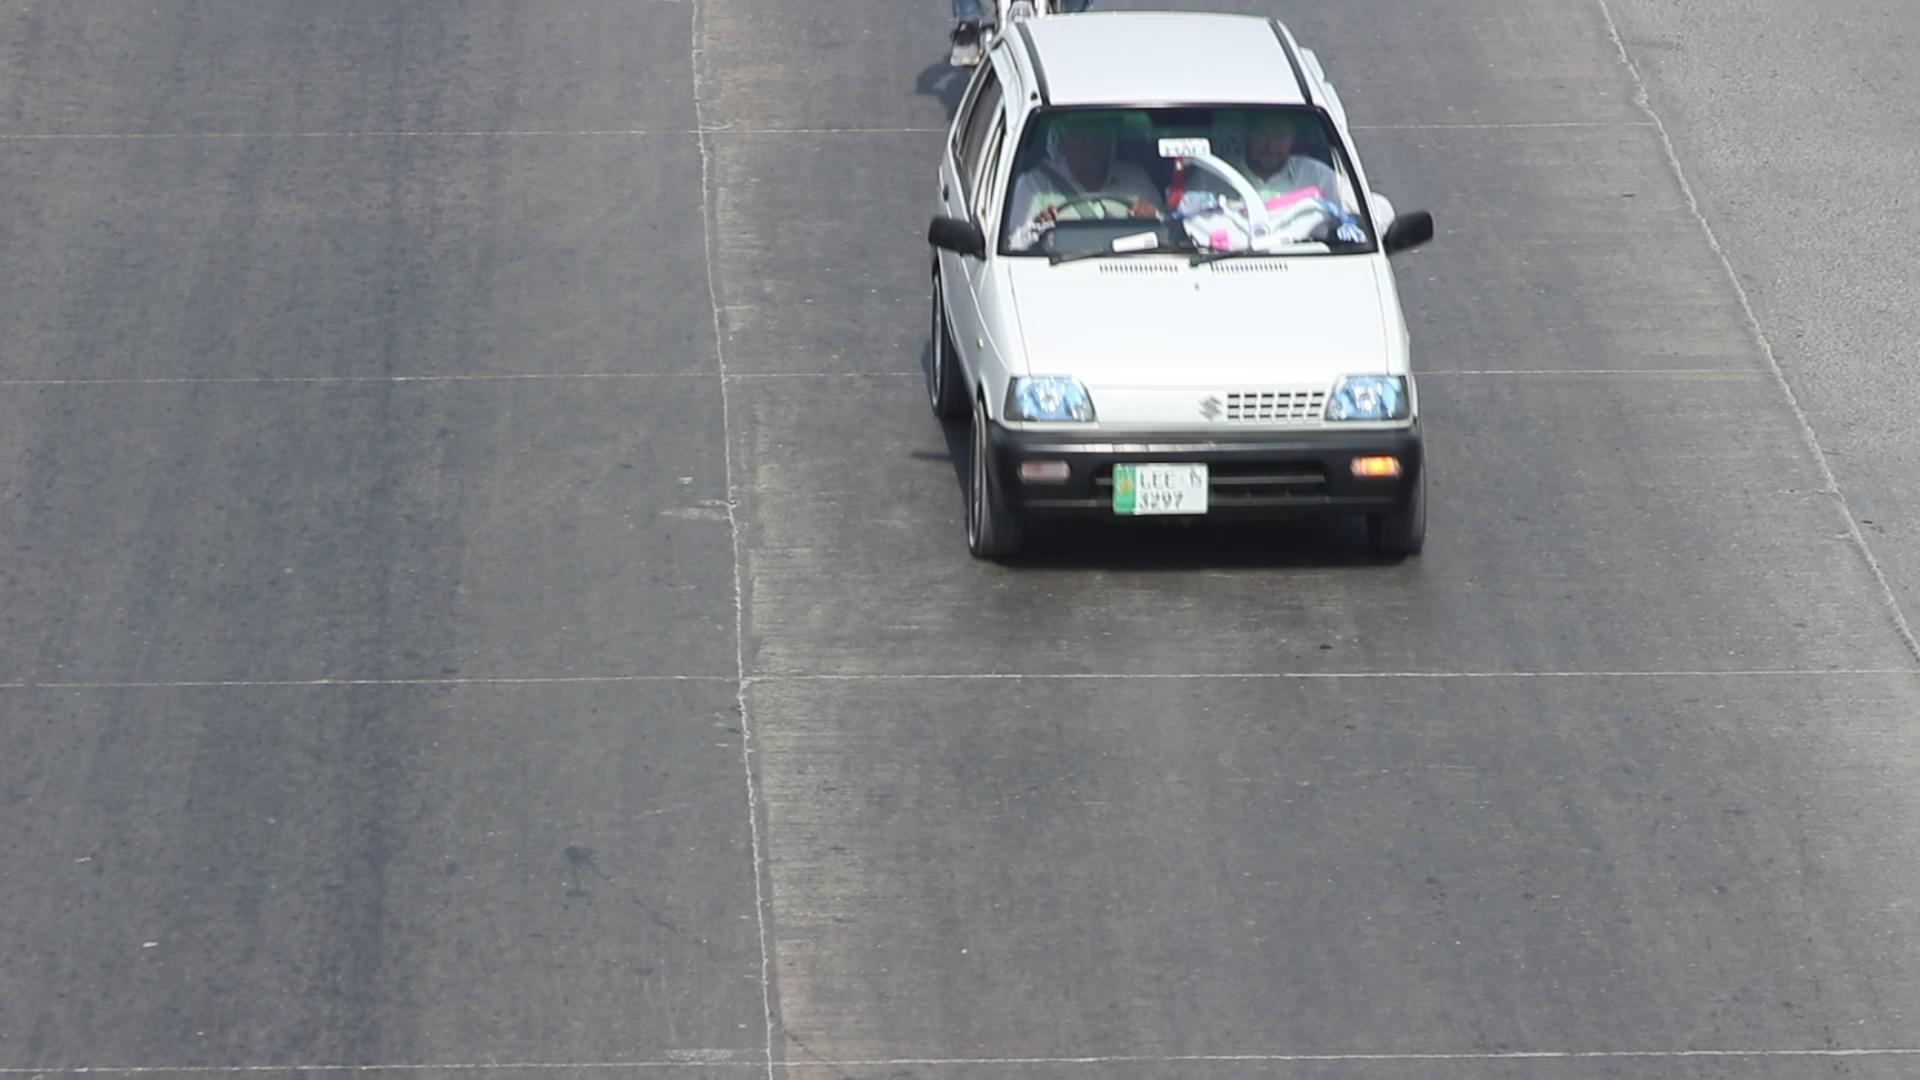windshield: (984, 83, 1390, 277)
